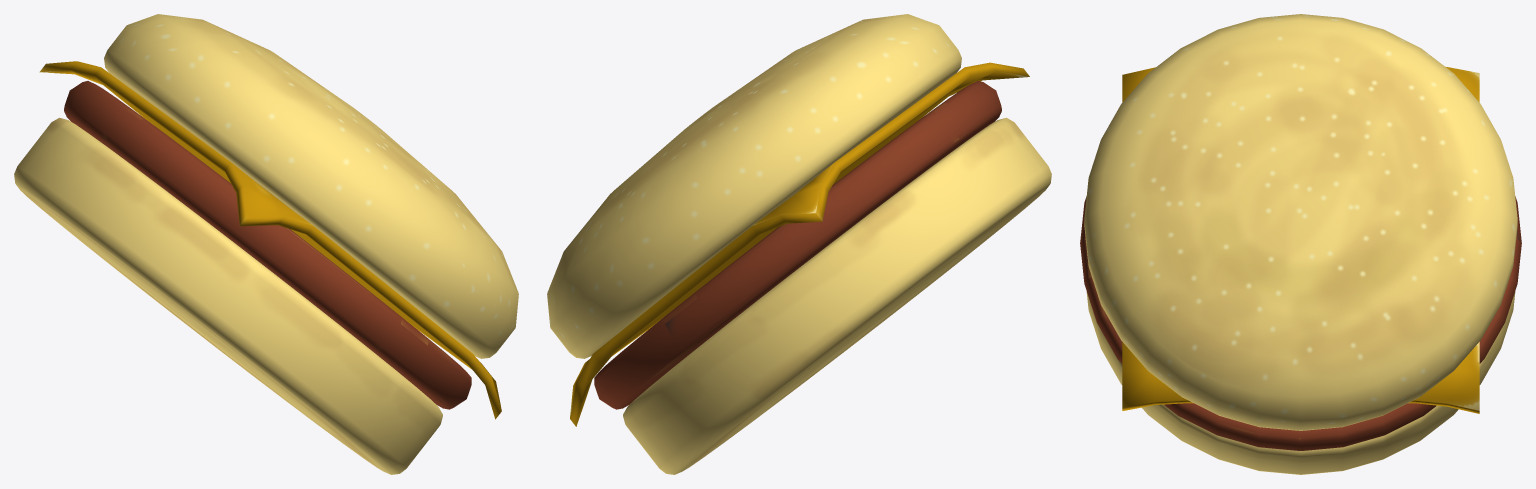
File: burger.fbx
3 views of the same model, side by side, from view 1: azimuth 30°, elevation 25°; view 2: azimuth 150°, elevation 25°; view 3: azimuth 270°, elevation 25° (orthographic). The views are drawn at different scales.
Parts seen in each view (by area): view 1: Cylinder; view 2: Cylinder; view 3: Cylinder.
Boxes of the visible parts, <box> form: Cylinder: <box>14,14,518,474</box>; Cylinder: <box>547,14,1051,474</box>; Cylinder: <box>1080,14,1521,474</box>.
Size of the model in its own units: 197 by 197 by 204.
1 material, 1 textured.
